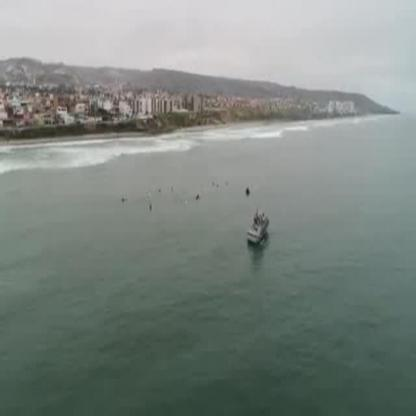Boat: (246, 211, 270, 242)
